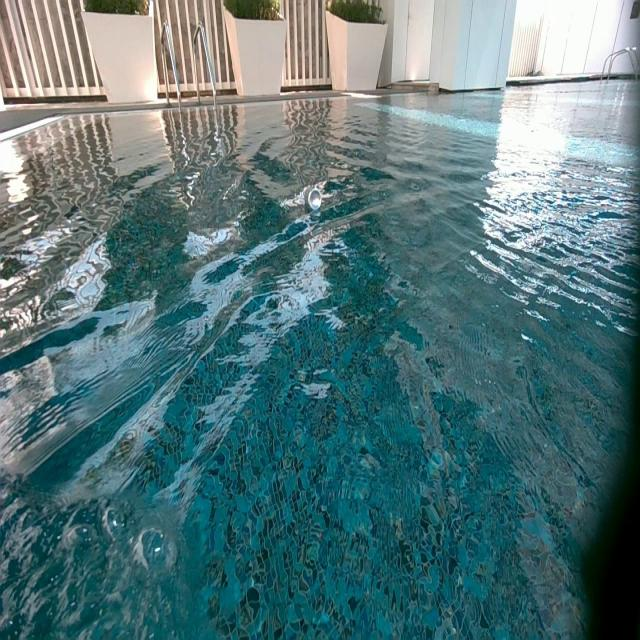Cans: (304, 183, 324, 209)
